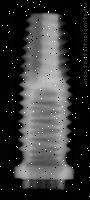Sterngold: (14, 12, 75, 181)
